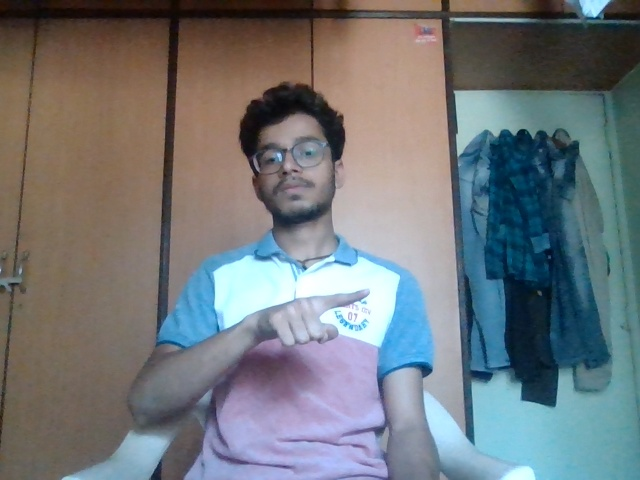you: (250, 271, 375, 359)
